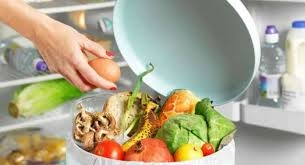kitchen_waste: (70, 102, 121, 153), (195, 96, 241, 152), (151, 112, 214, 148), (81, 54, 127, 95), (160, 84, 204, 121), (125, 135, 169, 165), (92, 137, 128, 165), (172, 140, 207, 165), (198, 138, 219, 156)
plastic: (5, 70, 93, 124), (257, 22, 287, 114), (283, 18, 305, 113), (5, 42, 53, 78)
